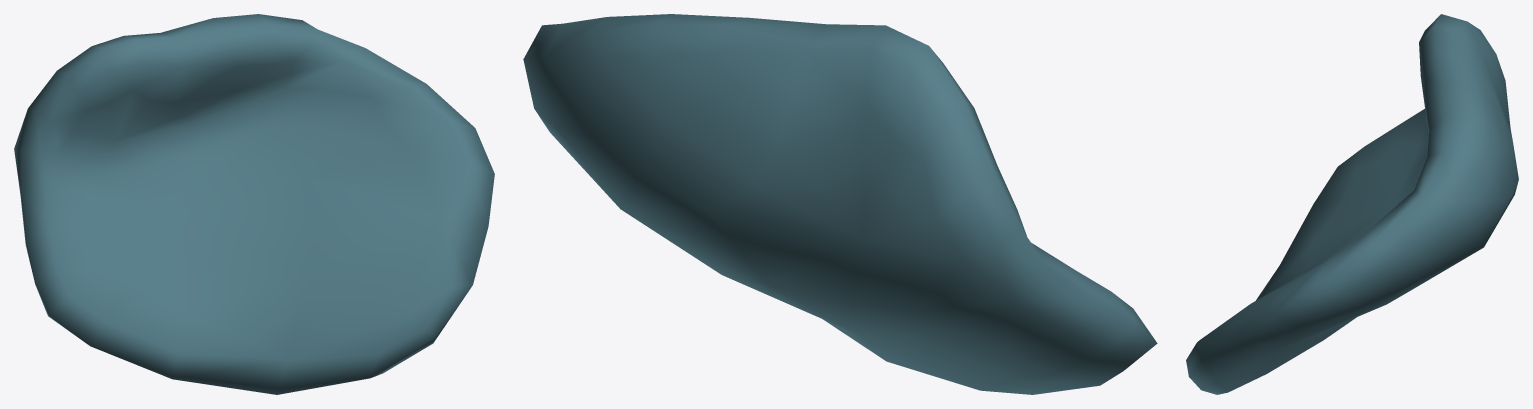
The model's file is Flexor_digitorum_longus_2nd_distal_phalanx_right.glb.
3 renders of one model, left to right at view 1: azimuth 30°, elevation 25°; view 2: azimuth 150°, elevation 25°; view 3: azimuth 270°, elevation 25°, orthographic. The views are drawn at different scales.
Parts seen in each view (by area): view 1: Flexor_digitorum_longus_on_2d_distal_phalanx.r_Generated_Mes; view 2: Flexor_digitorum_longus_on_2d_distal_phalanx.r_Generated_Mes; view 3: Flexor_digitorum_longus_on_2d_distal_phalanx.r_Generated_Mes.
Part boxes in pixels (left/top/right/bottom): Flexor_digitorum_longus_on_2d_distal_phalanx.r_Generated_Mes: left=14, top=14, right=494, bottom=394; Flexor_digitorum_longus_on_2d_distal_phalanx.r_Generated_Mes: left=523, top=14, right=1157, bottom=394; Flexor_digitorum_longus_on_2d_distal_phalanx.r_Generated_Mes: left=1186, top=14, right=1518, bottom=394.
Bounding box in the file's own units: 0.0036 × 0.00249 × 0.00244.
